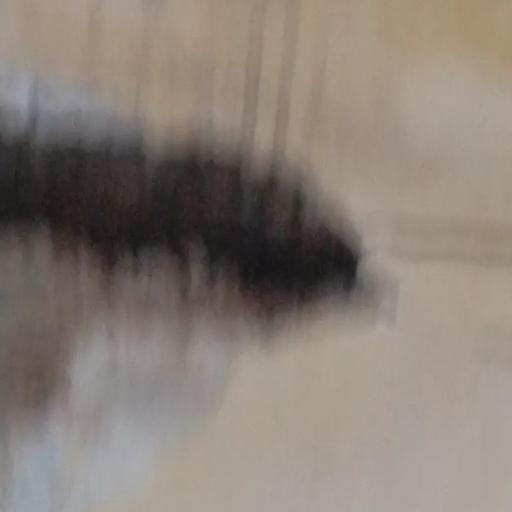spalling: (0, 82, 396, 355)
